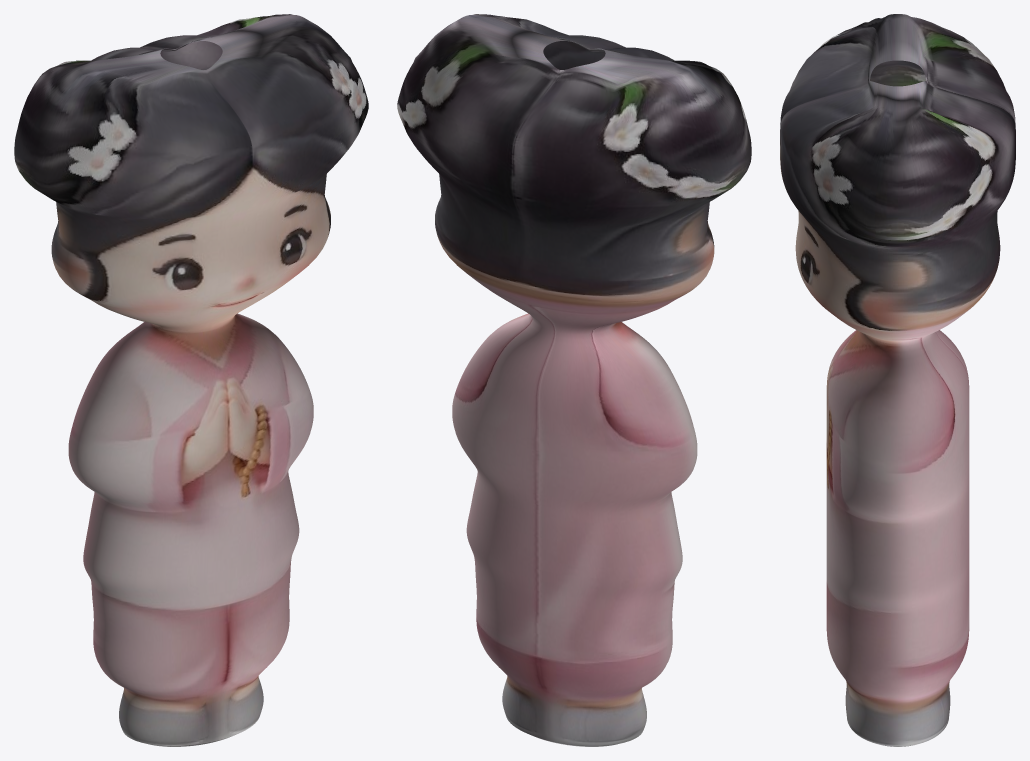
The model's file is be_nu_ao_hong.glb.
3 views of the same model, side by side, from view 1: azimuth 30°, elevation 25°; view 2: azimuth 150°, elevation 25°; view 3: azimuth 270°, elevation 25° (orthographic). The views are drawn at different scales.
Parts seen in each view (by area): view 1: BeNu_AoHong; view 2: BeNu_AoHong; view 3: BeNu_AoHong.
Boxes of the visible parts, bbox=[...] form: BeNu_AoHong: bbox=[14, 14, 368, 746]; BeNu_AoHong: bbox=[397, 14, 751, 746]; BeNu_AoHong: bbox=[780, 14, 1015, 746].
Bounding box in the file's own units: 0.606 × 1.19 × 0.3864.
1 material, 1 textured.
